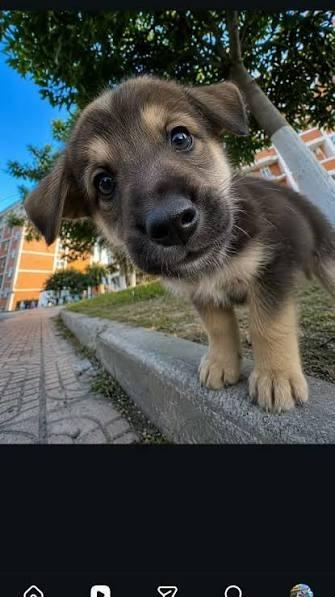puppy-dog: (24, 74, 335, 413)
